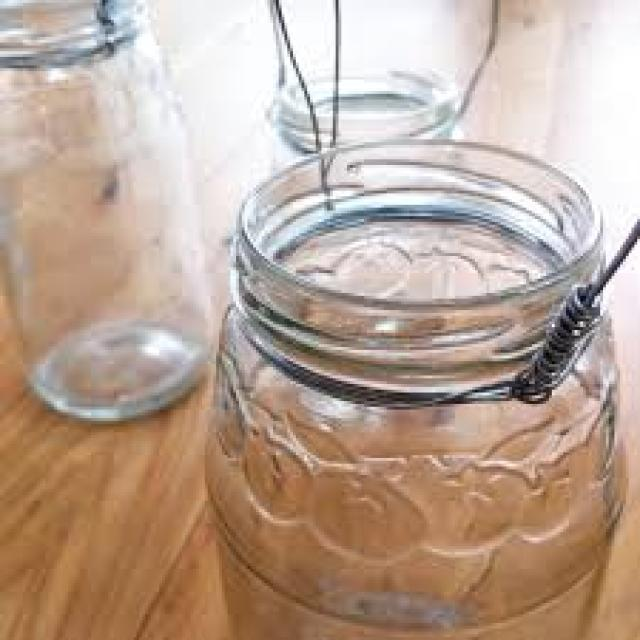glass: (202, 137, 620, 632), (0, 0, 199, 412), (265, 0, 498, 154)
